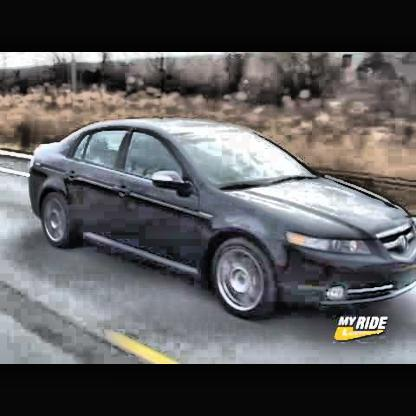Acura TL Type-S 2008: (28, 118, 416, 319)
